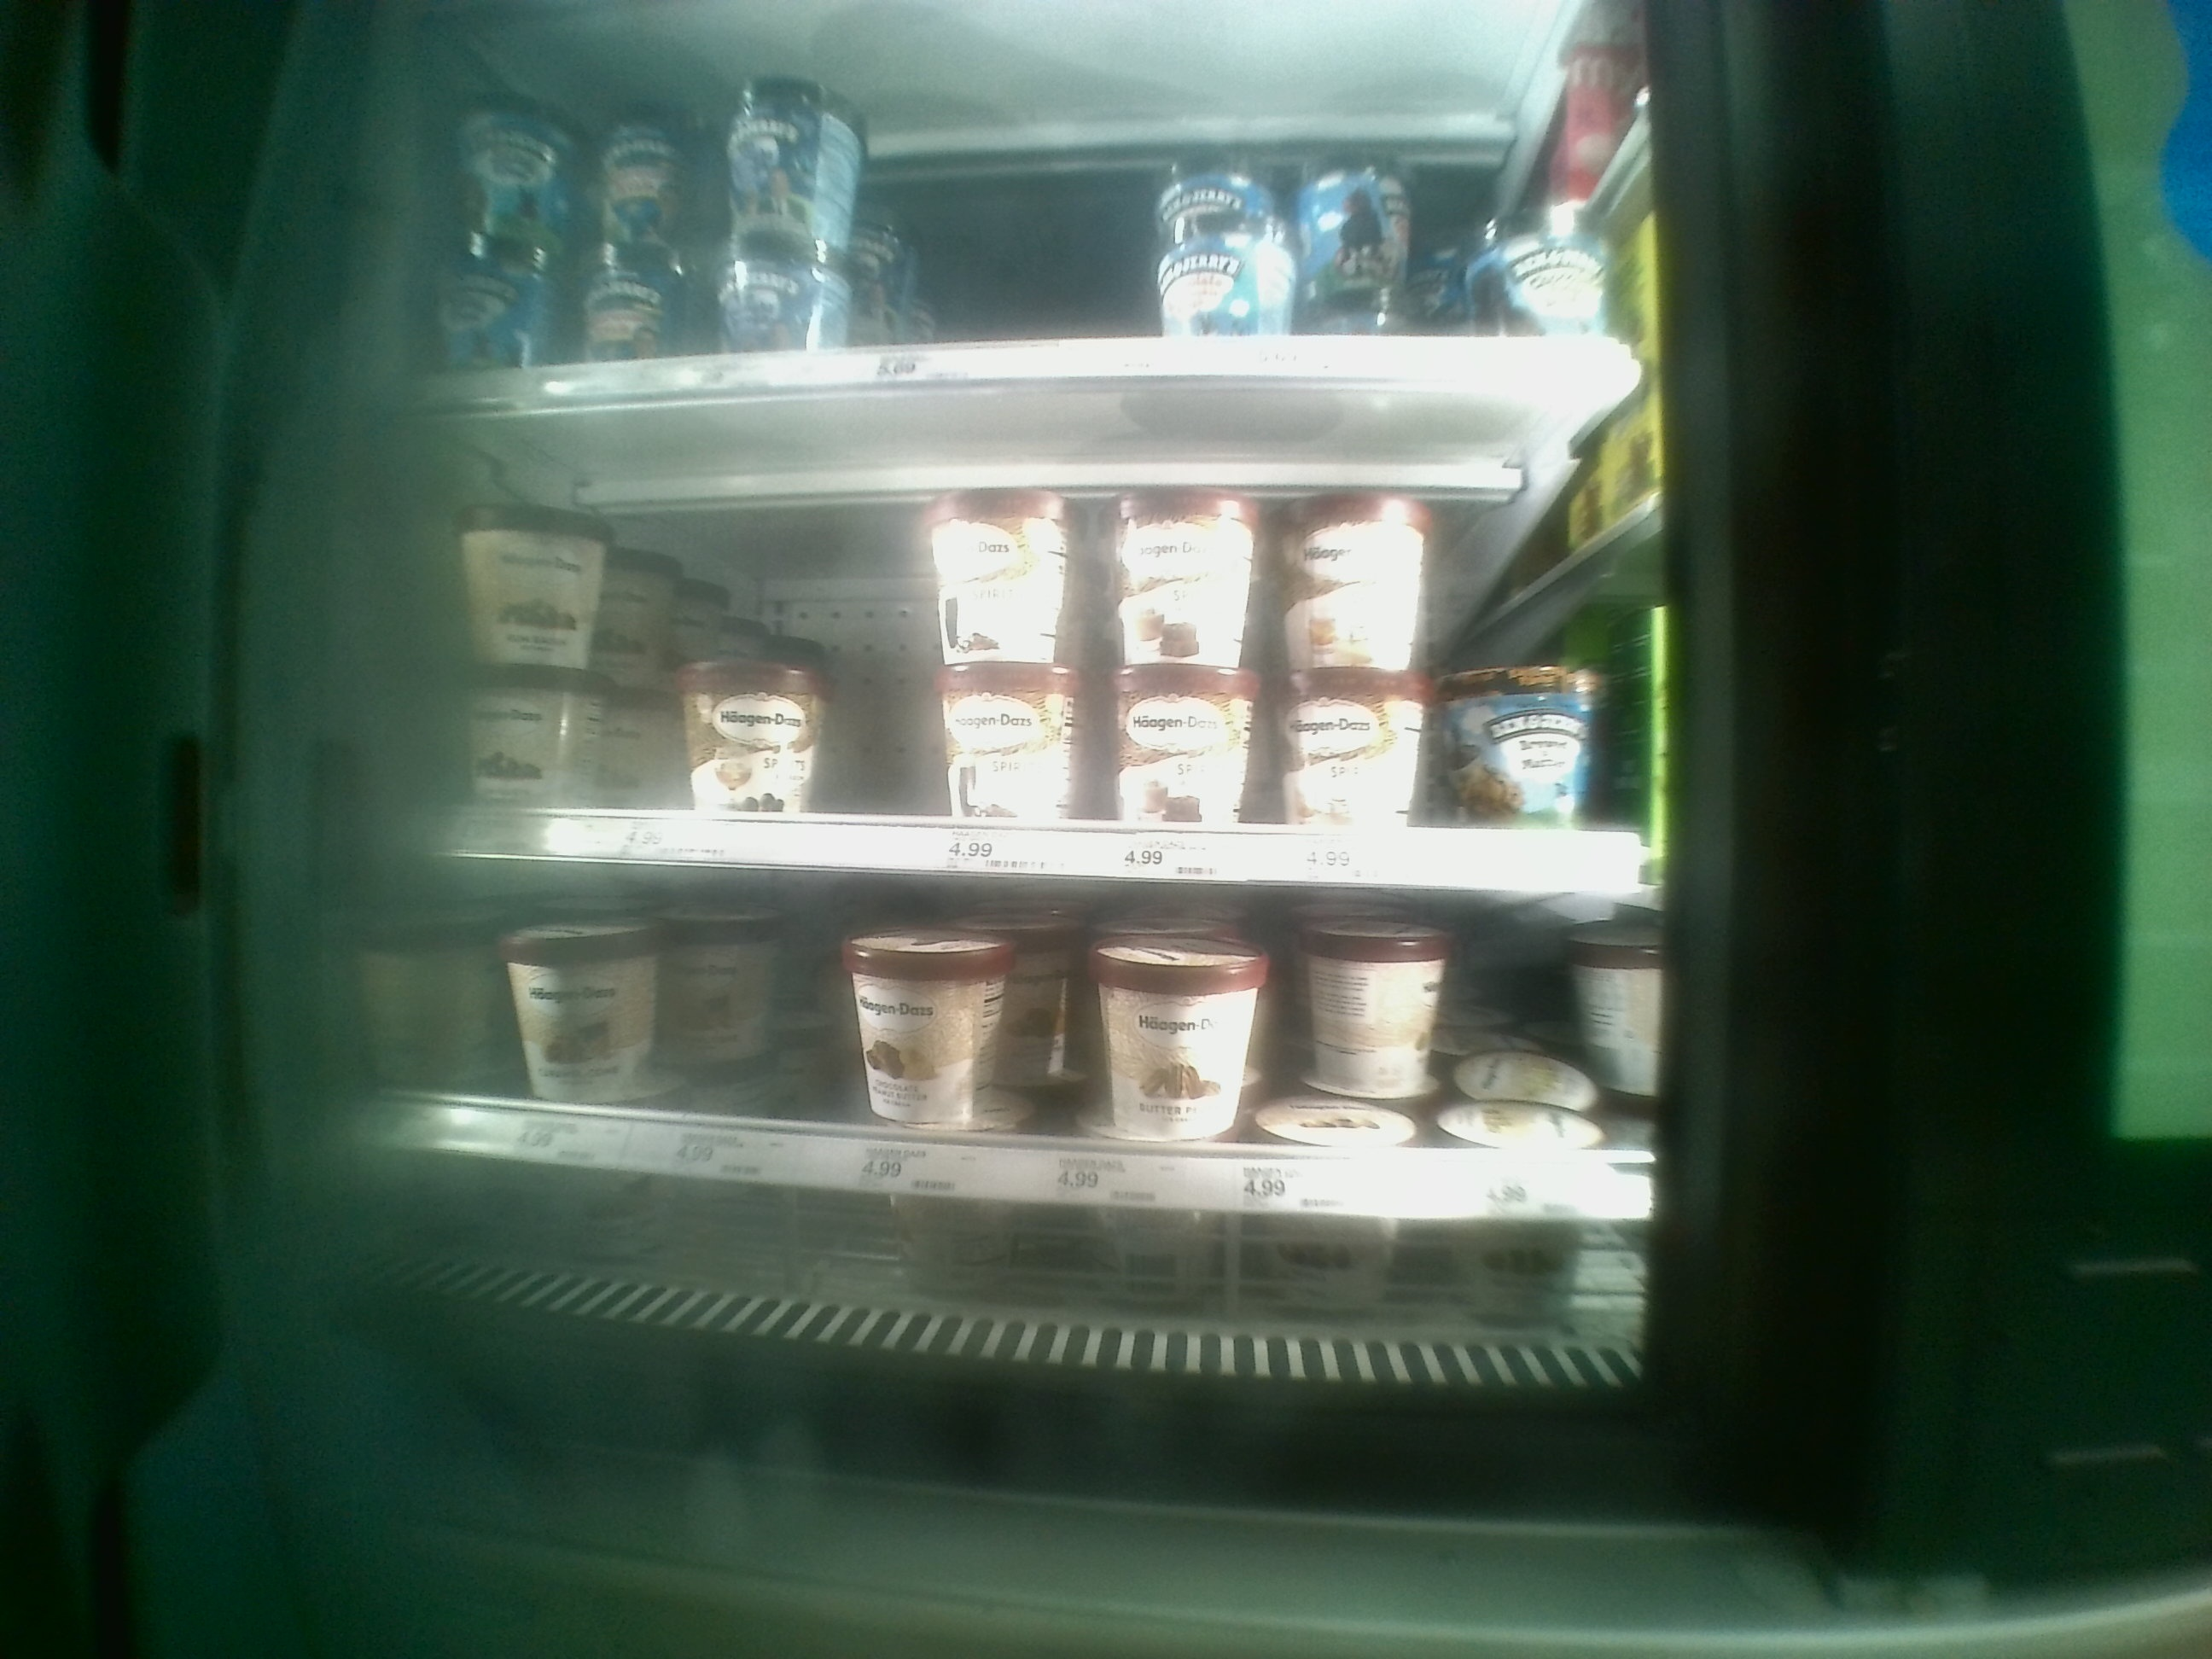shelf: (415, 390, 1674, 887), (404, 863, 1703, 1333)
